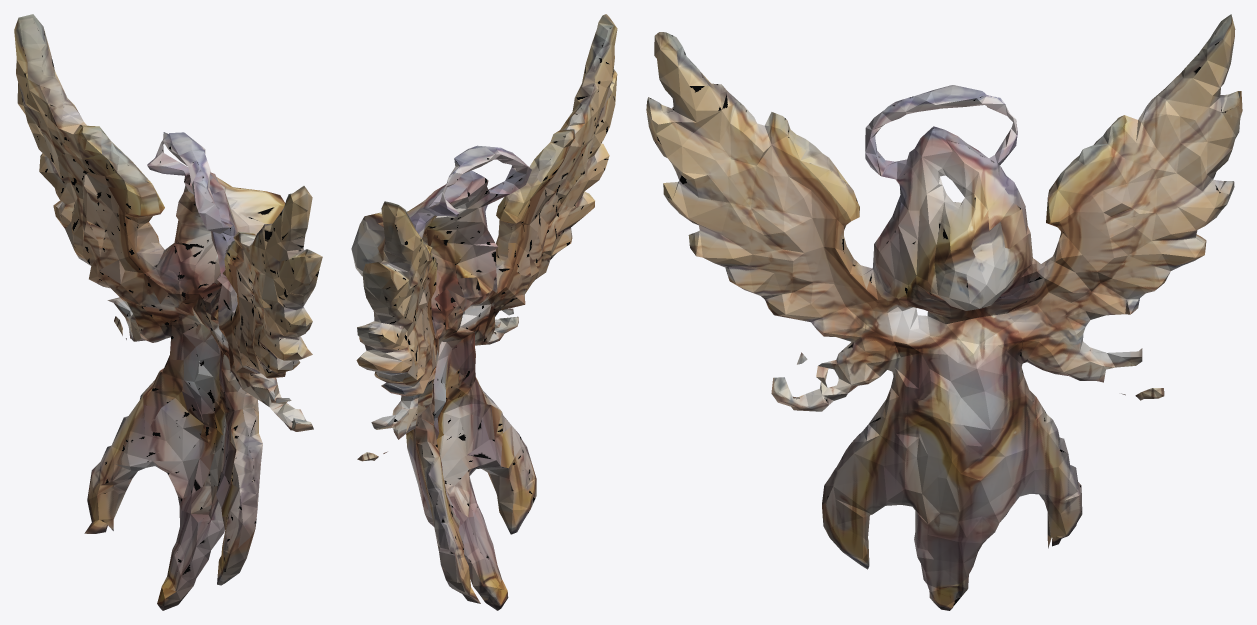
The model's file is minion_healer_3.glb.
3 renders of one model, left to right at view 1: azimuth 30°, elevation 25°; view 2: azimuth 150°, elevation 25°; view 3: azimuth 270°, elevation 25°, orthographic. The views are drawn at different scales.
Visible parts, largest first — view 1: test (22); view 2: test (22); view 3: test (22).
Boxes of the visible parts, x1,y1,x2,y2 form: test (22): [14, 14, 322, 610]; test (22): [351, 14, 617, 610]; test (22): [646, 14, 1242, 610].
Size of the model in its own units: 0.7019 by 2.04 by 1.88.
1 material, 1 textured.
